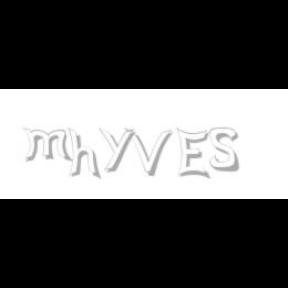E: (176, 128, 209, 180)
S: (210, 128, 240, 172)
V: (124, 128, 172, 176)
h: (68, 128, 102, 180)
m: (22, 128, 74, 162)
y: (99, 128, 139, 172)
